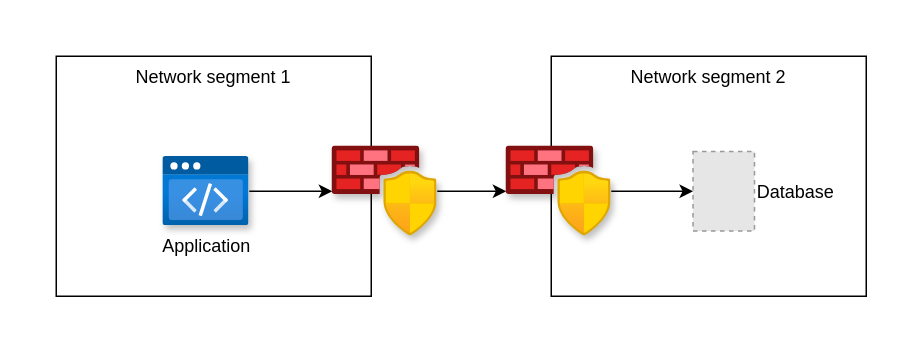
This 921x351 diagram has some shape labels left out. Grey dashed boxes stand in for pictures. Here are the shapes that lost their labels. From the top down, the centre of each, then its label:
At (386,193): "FW 1".
At (560,193): "FW2".
